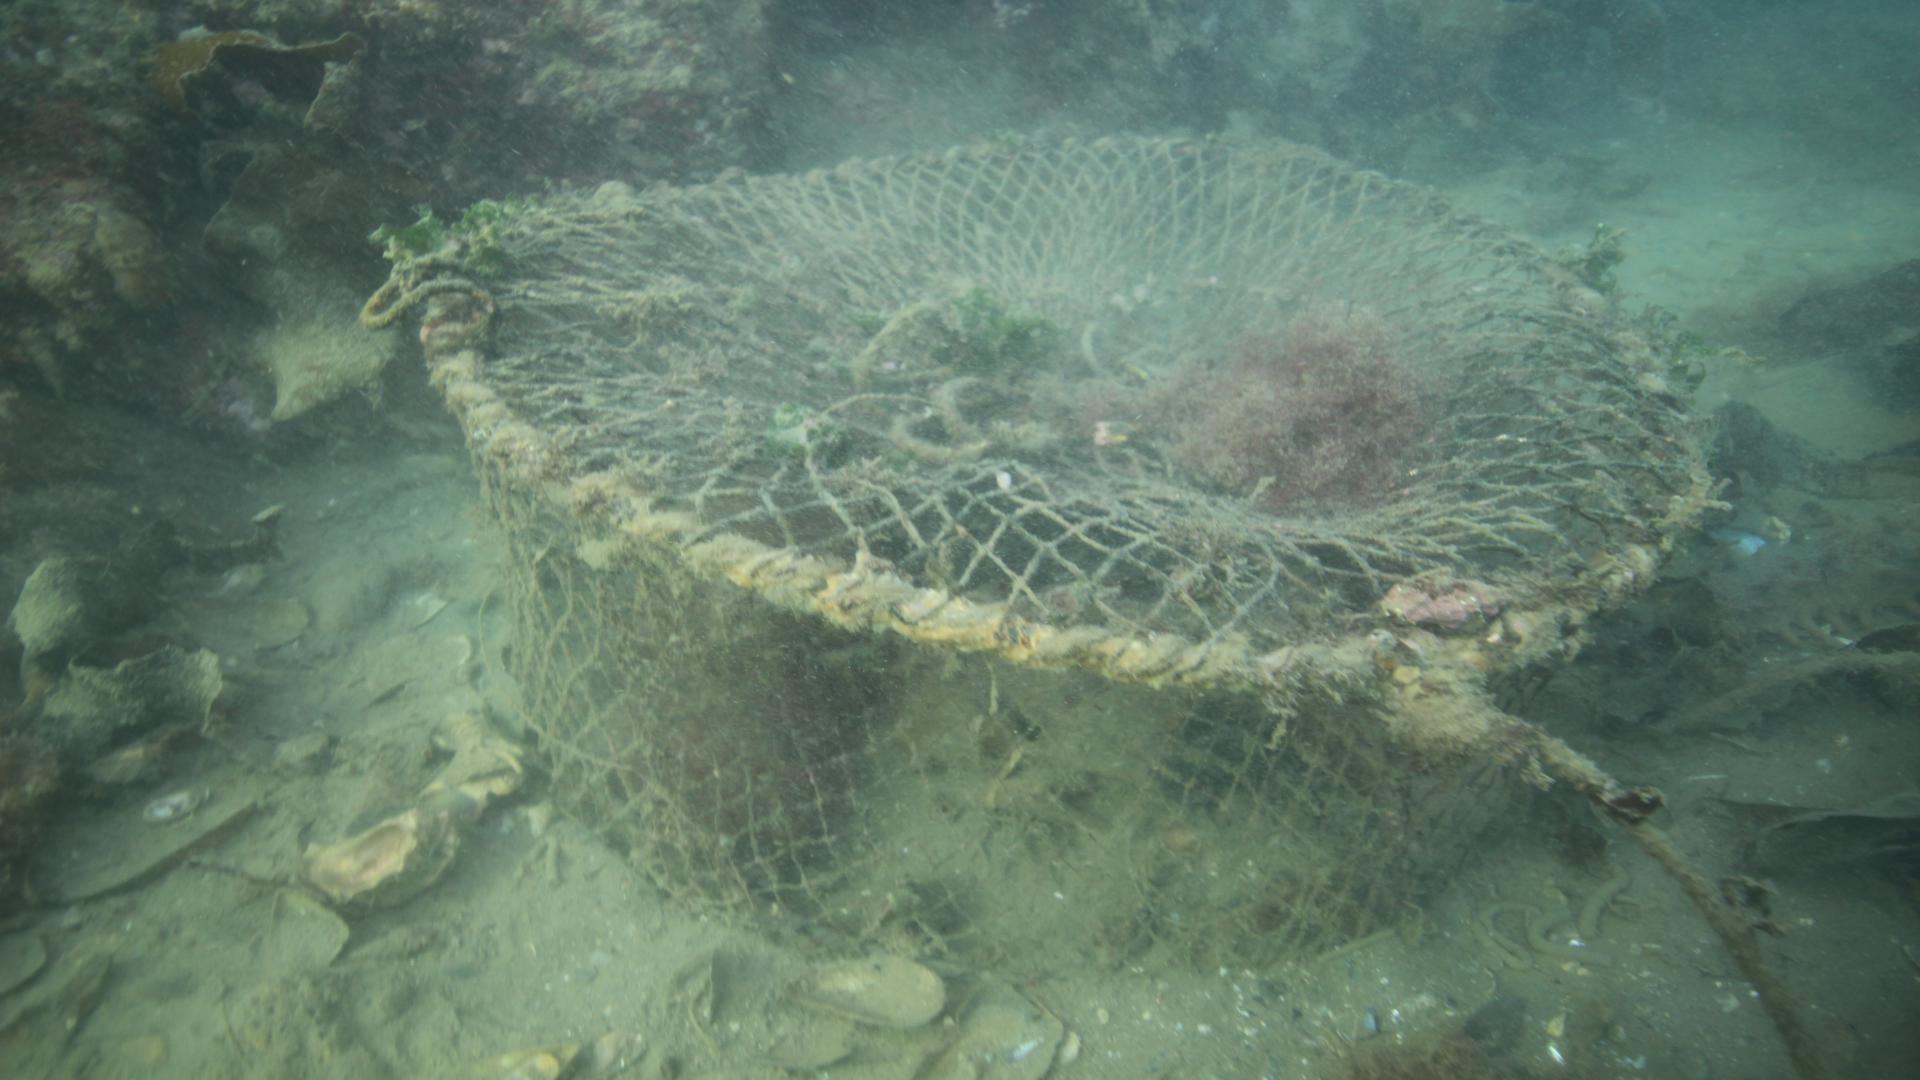circular fish trap: (415, 127, 1718, 982)
